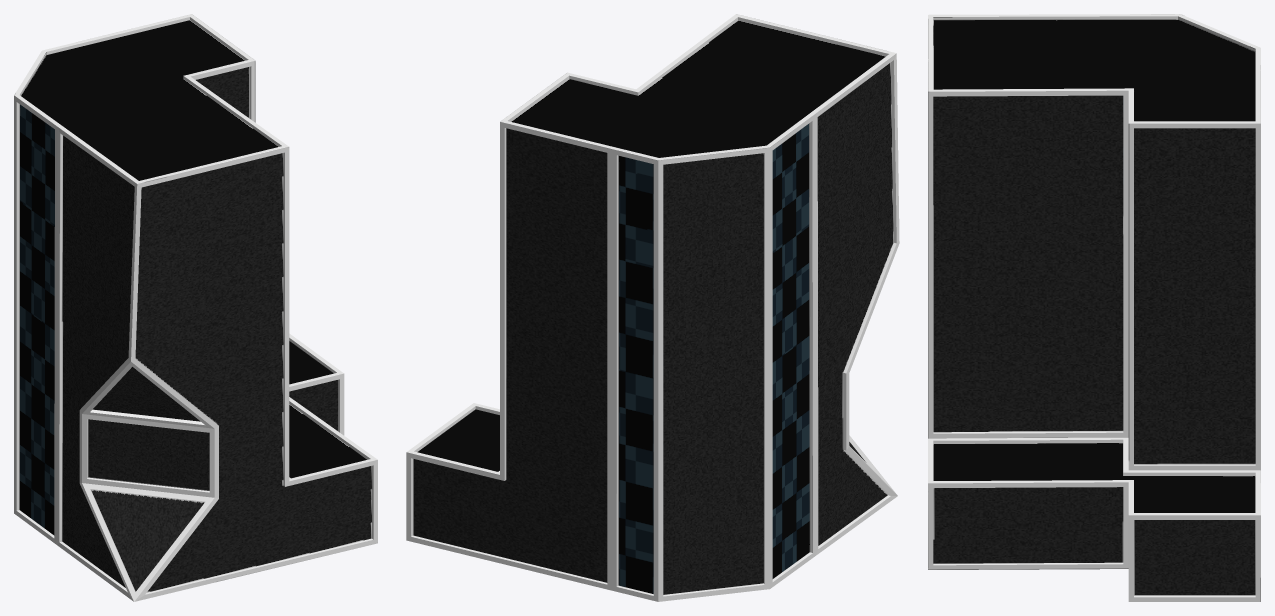
File: block5_b1_MESH.fbx
3 views of the same model, side by side, from view 1: azimuth 30°, elevation 25°; view 2: azimuth 150°, elevation 25°; view 3: azimuth 270°, elevation 25° (orthographic). The views are drawn at different scales.
Visible parts, largest first — view 1: block5_b1_MESH; view 2: block5_b1_MESH; view 3: block5_b1_MESH.
Part boxes in pixels (x1,y1,x2,y2): block5_b1_MESH: (14, 14, 377, 601); block5_b1_MESH: (406, 14, 899, 601); block5_b1_MESH: (928, 14, 1260, 601).
Size of the model in its own units: 5265 by 4740 by 6811.
